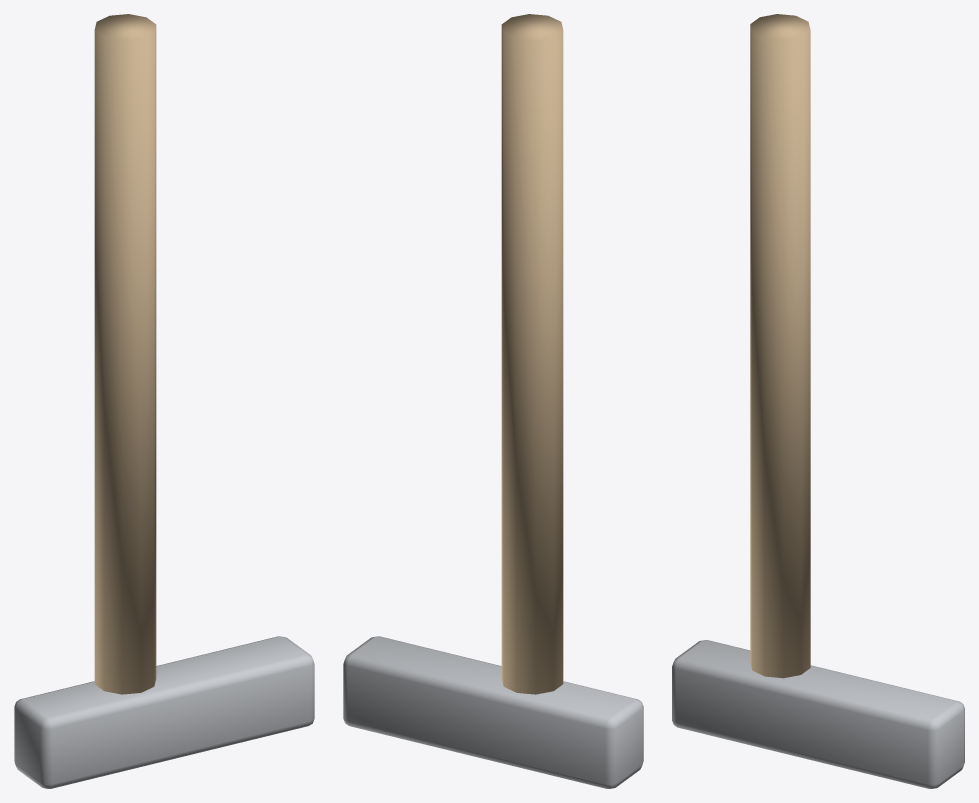
File: tool_hammer.glb
3 renders of one model, left to right at view 1: azimuth 30°, elevation 25°; view 2: azimuth 150°, elevation 25°; view 3: azimuth 330°, elevation 25°, orthographic. The views are drawn at different scales.
Visible parts, largest first — view 1: Cylinder, Cube; view 2: Cylinder, Cube; view 3: Cylinder, Cube.
Part boxes in pixels (x1,y1,x2,y2): Cylinder: [94, 14, 156, 694]; Cube: [14, 636, 314, 788]; Cylinder: [501, 14, 563, 694]; Cube: [343, 636, 643, 788]; Cylinder: [750, 14, 810, 678]; Cube: [672, 640, 964, 788].
Bounding box in the file's own units: 0.14 × 0.3575 × 0.03.
